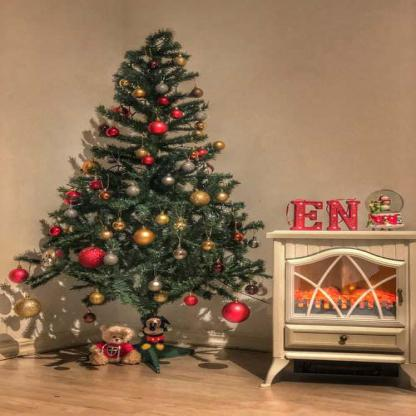present: (85, 315, 146, 375), (132, 316, 178, 368)
x_mas tree: (36, 13, 263, 362)
